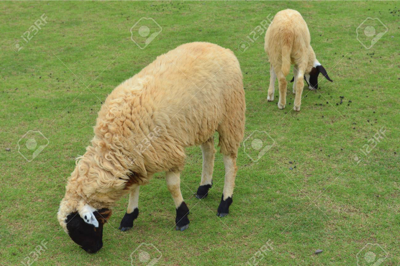koyun: (58, 41, 244, 256), (261, 6, 330, 112)
